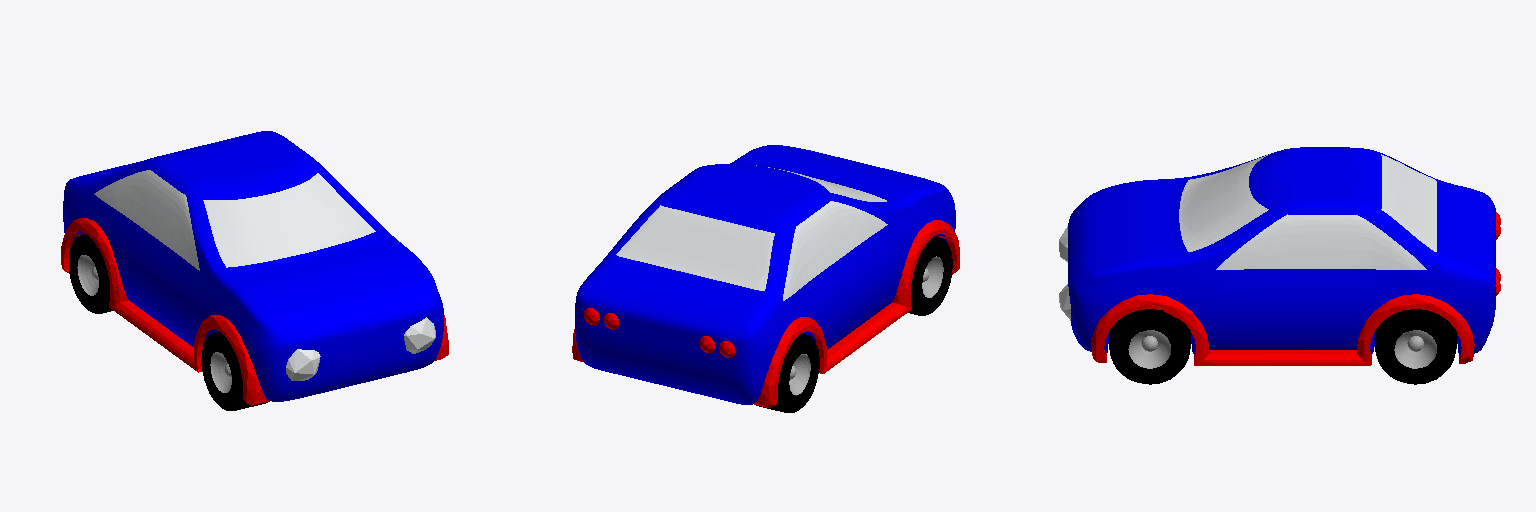
Rendered from toycar.obj.
3 views of the same model, side by side, from view 1: azimuth 30°, elevation 25°; view 2: azimuth 150°, elevation 25°; view 3: azimuth 270°, elevation 25° (orthographic).
Visible parts, largest first — view 1: body2 #1, body1 #1, object_291, tires00002, tires00004, object_281, object_28; view 2: body2 #1, body1 #1, object_291, tires00002, tires00004; view 3: body2 #1, body1 #1, object_311, tires_cop2, tires1 #1, tires_cop4, tires2 #1.
Boxes of the visible parts, box(x1,y1,x2,y2) form: body2 #1: box(63, 131, 443, 401); body1 #1: box(94, 170, 375, 270); object_291: box(61, 218, 269, 405); tires00002: box(69, 234, 267, 410); tires00004: box(77, 255, 231, 392); object_281: box(286, 349, 320, 380); object_28: box(404, 317, 435, 353); body2 #1: box(575, 145, 955, 404); body1 #1: box(616, 165, 887, 300); object_291: box(754, 220, 959, 407); tires00002: box(756, 236, 952, 412); tires00004: box(789, 256, 943, 395); body2 #1: box(1068, 147, 1495, 353); body1 #1: box(1179, 154, 1436, 269); object_311: box(1091, 294, 1474, 365); tires_cop2: box(1375, 309, 1456, 384); tires1 #1: box(1109, 309, 1190, 384); tires_cop4: box(1394, 330, 1436, 368); tires2 #1: box(1128, 330, 1170, 368).
Size of the model in its own units: 69.05 by 52.39 by 129.